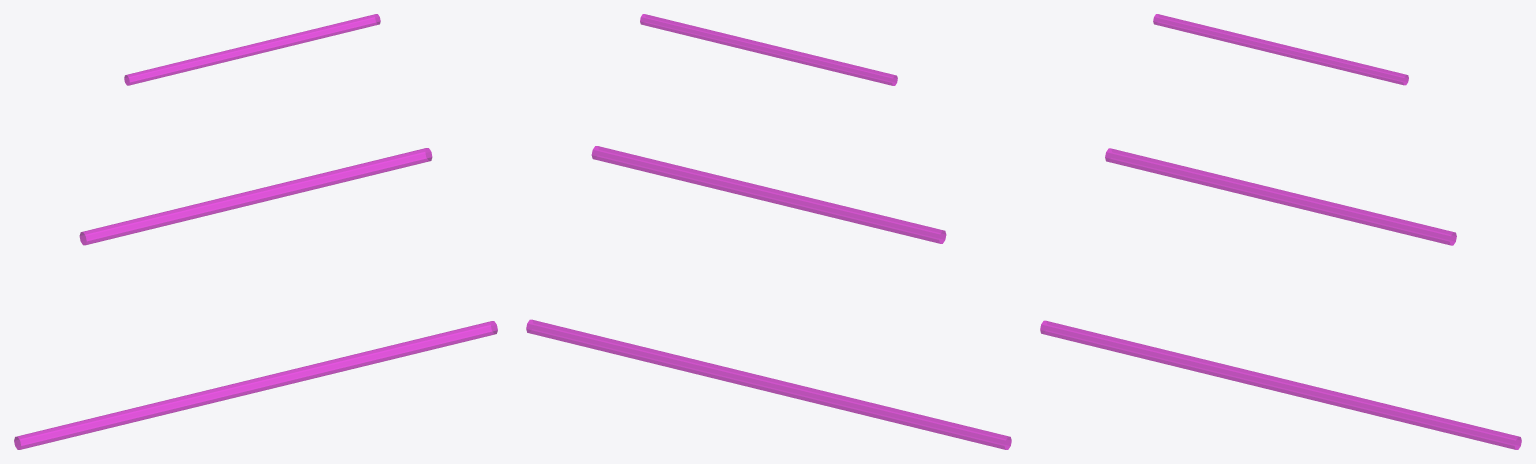
Rendered from SM_Veh_Ship_L_Mast_Middle_02_Boom_01_Collision.fbx.
3 renders of one model, left to right at view 1: azimuth 30°, elevation 25°; view 2: azimuth 150°, elevation 25°; view 3: azimuth 330°, elevation 25°, orthographic.
Visible parts, largest first — view 1: SM_Veh_Ship_L_Mast_Middle_02_Boom_01_Collision; view 2: SM_Veh_Ship_L_Mast_Middle_02_Boom_01_Collision; view 3: SM_Veh_Ship_L_Mast_Middle_02_Boom_01_Collision.
Part boxes in pixels (bbox=[...]): SM_Veh_Ship_L_Mast_Middle_02_Boom_01_Collision: bbox=[14, 14, 497, 449]; SM_Veh_Ship_L_Mast_Middle_02_Boom_01_Collision: bbox=[526, 14, 1011, 449]; SM_Veh_Ship_L_Mast_Middle_02_Boom_01_Collision: bbox=[1040, 14, 1521, 449].
Size of the model in its own units: 2230 by 1550 by 69.19.
